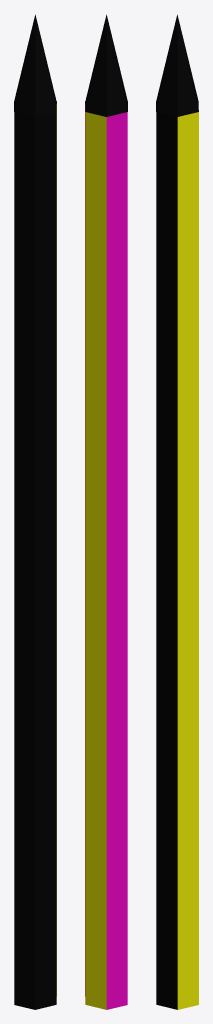
Rendered from pencil1.fbx.
3 views of the same model, side by side, from view 1: azimuth 30°, elevation 25°; view 2: azimuth 150°, elevation 25°; view 3: azimuth 330°, elevation 25° (orthographic).
Visible parts, largest first — view 1: Cube, Cone; view 2: Cube, Cone; view 3: Cube, Cone.
Part boxes in pixels (left/top/right/bottom): Cube: left=14, top=101, right=56, bottom=1009; Cone: left=14, top=14, right=56, bottom=116; Cube: left=85, top=101, right=127, bottom=1009; Cone: left=85, top=14, right=127, bottom=116; Cube: left=156, top=110, right=198, bottom=1009; Cone: left=156, top=14, right=198, bottom=116.
Bounding box in the file's own units: 0.5013 × 11.04 × 0.4318.
